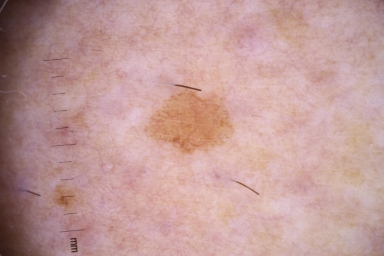nevus: (143, 93, 234, 152)
